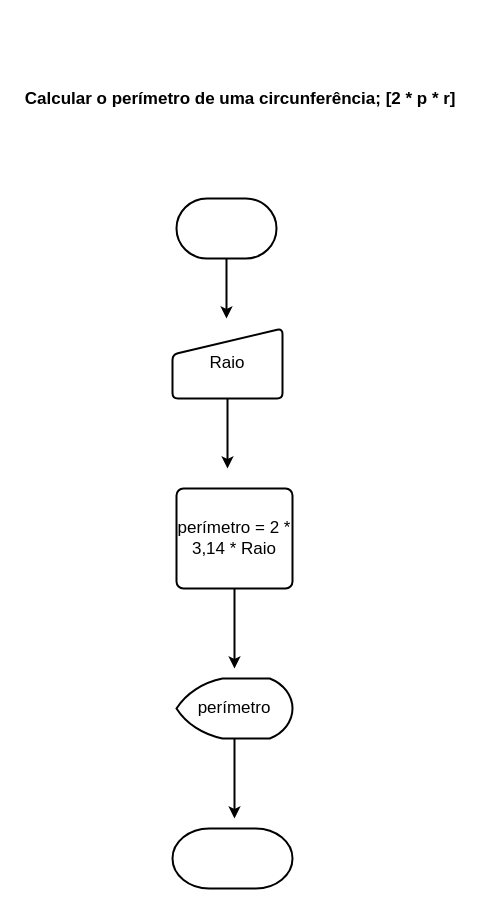
This 484x906 diagram has some shape labels left out. Here are the shapes that lost their labels. From the top down, the centre of each, then its label:
(x=226, y=228): Inicio
(x=232, y=858): Saida
